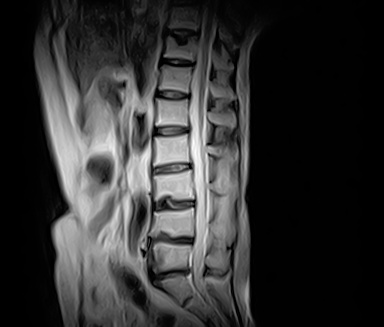L1,v2: (150, 101, 191, 124)
L1-L2,v1: (149, 118, 190, 141)
L2,v2: (149, 138, 190, 161)
L2-L3,v2: (151, 156, 192, 179)
L3,v2: (152, 174, 193, 197)
L3-L4,v2: (150, 193, 191, 216)
L3-L4,v5: (150, 193, 191, 216)
L4,v2: (151, 212, 192, 235)
L4-L5,v2: (151, 228, 192, 251)
L4-L5,v5: (151, 228, 192, 251)
L5,v2: (150, 245, 191, 268)
L5-S1,v3: (150, 261, 191, 284)
T12-L1,v1: (150, 83, 191, 106)
